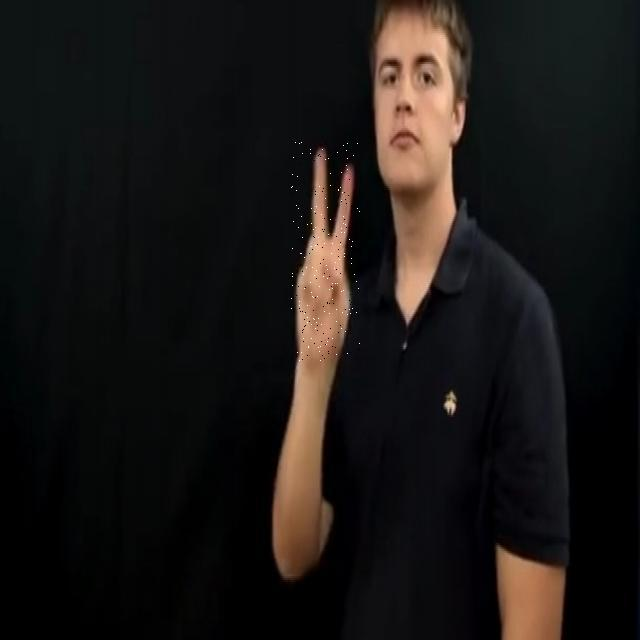vegetables: (291, 142, 361, 364)
